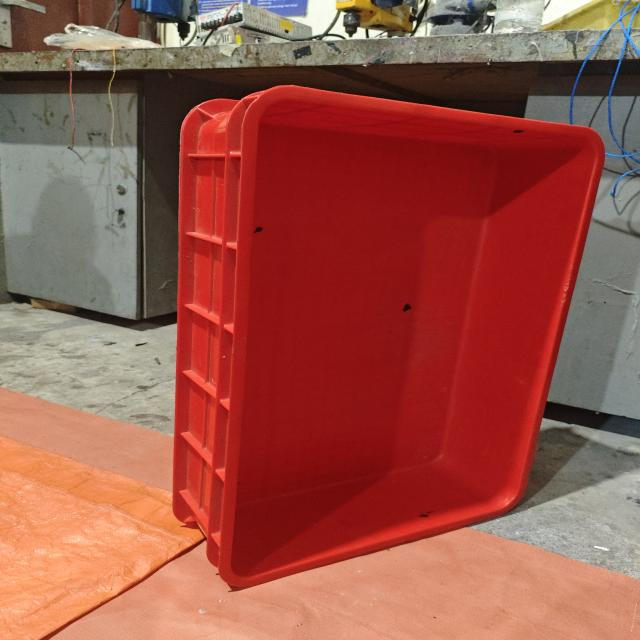red plastic box: (172, 84, 606, 588)
